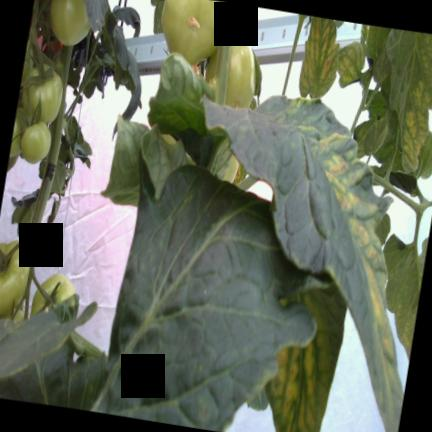MainStem: (30, 45, 71, 231), (213, 4, 232, 106)
tomato: (162, 0, 223, 64), (205, 32, 255, 108), (0, 241, 30, 317), (22, 72, 62, 123), (30, 273, 75, 316), (50, 0, 90, 45), (21, 123, 50, 164), (10, 116, 21, 158), (0, 309, 24, 322)
